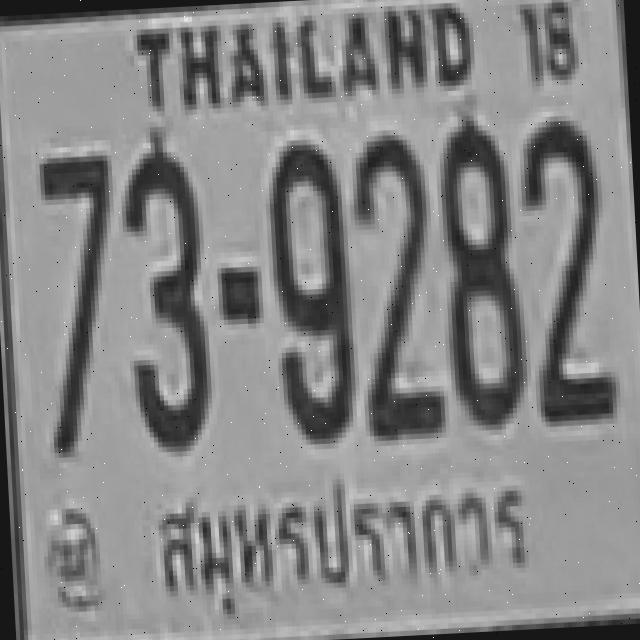2: (518, 119, 607, 381), (516, 115, 605, 372), (524, 171, 614, 417), (350, 134, 436, 390), (353, 190, 442, 437)
3: (116, 140, 212, 448)
7: (35, 150, 117, 345), (35, 152, 116, 322)
8: (438, 116, 526, 424)
9: (262, 138, 354, 441), (268, 164, 354, 441)
SamutPrakan: (129, 453, 555, 640)
